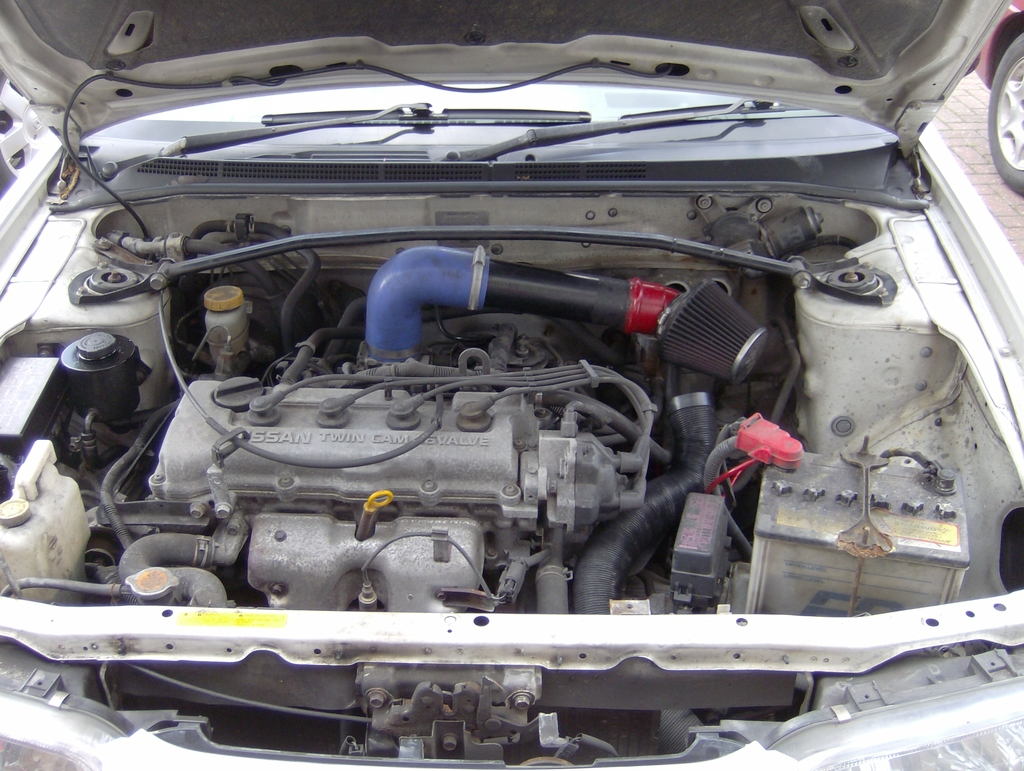Car: (0, 0, 1023, 770), (969, 0, 1023, 195)
